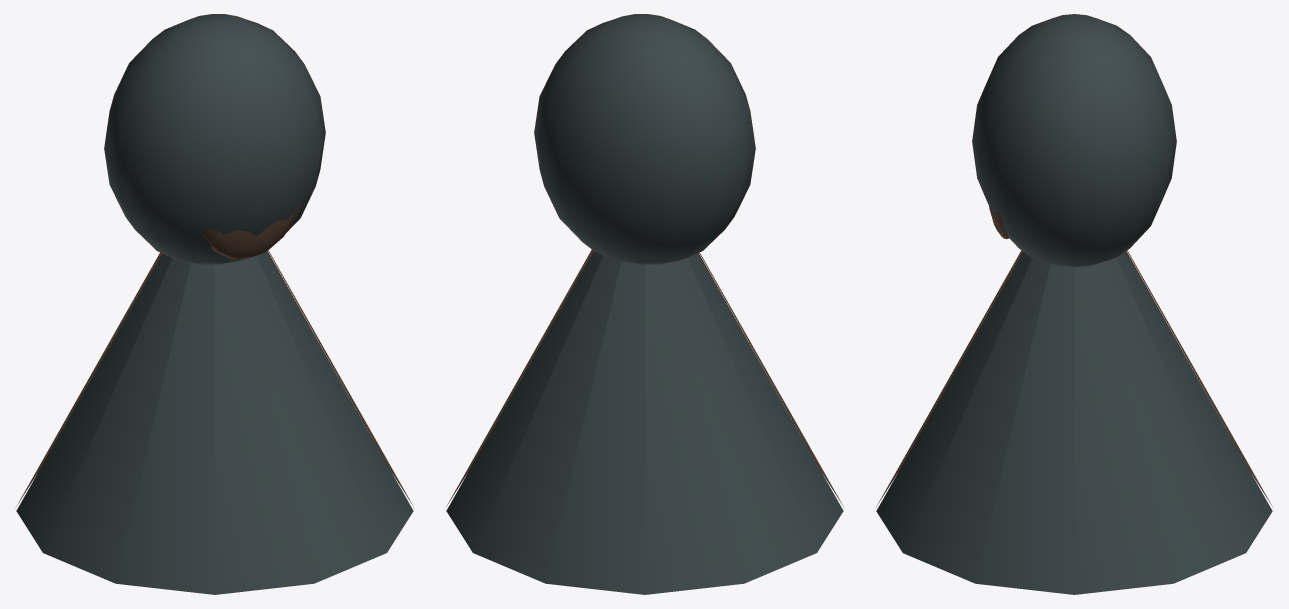
Rendered from prop_30037.glb.
The picture shows the model from 3 angles, left to right: view 1: azimuth 30°, elevation 25°; view 2: azimuth 150°, elevation 25°; view 3: azimuth 270°, elevation 25°; orthographic projection.
Parts seen in each view (by area): view 1: prop_30037; view 2: prop_30037; view 3: prop_30037.
Part boxes in pixels (bbox=[...]): prop_30037: bbox=[16, 14, 413, 594]; prop_30037: bbox=[446, 14, 843, 594]; prop_30037: bbox=[876, 14, 1272, 594].
Bounding box in the file's own units: 0.6171 × 0.83 × 0.6171.
